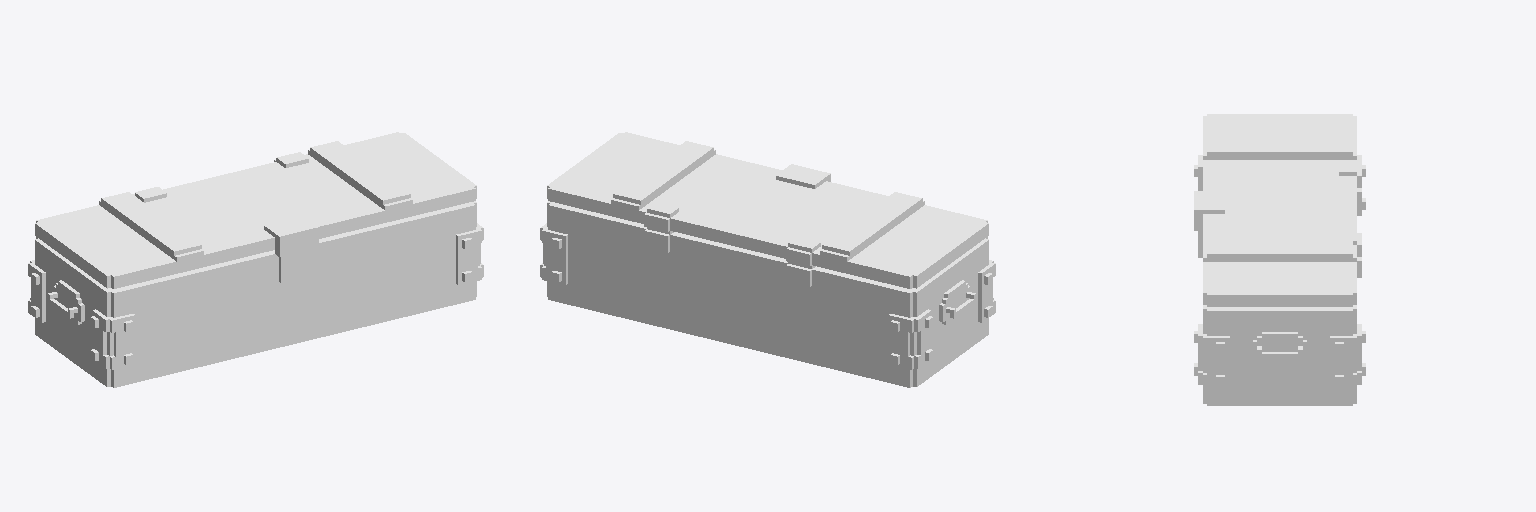
The model's file is WeaponCrate2.obj.
3 views of the same model, side by side, from view 1: azimuth 30°, elevation 25°; view 2: azimuth 150°, elevation 25°; view 3: azimuth 270°, elevation 25° (orthographic).
Size of the model in its own units: 100 by 29 by 38.